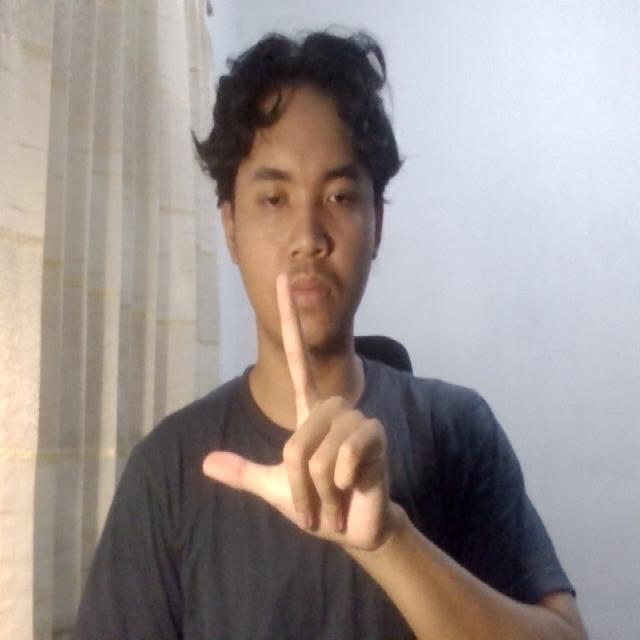I: (194, 267, 405, 561)
